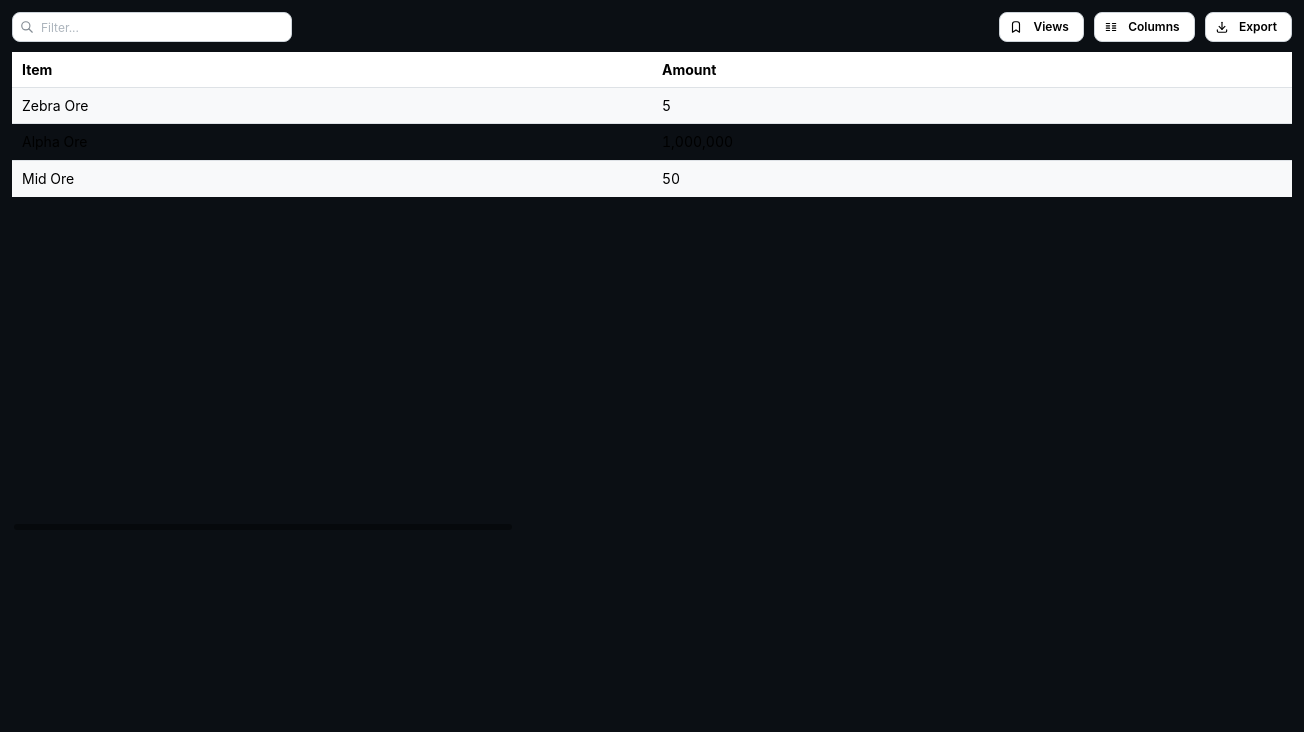
Test: DataTable › column pinning › moves a pinned column to the front of both the header and every row, without touching its visibility
The image size is (1304, 732).
Click the button "Columns" at (1144, 27), box [1094, 12, 1195, 42]
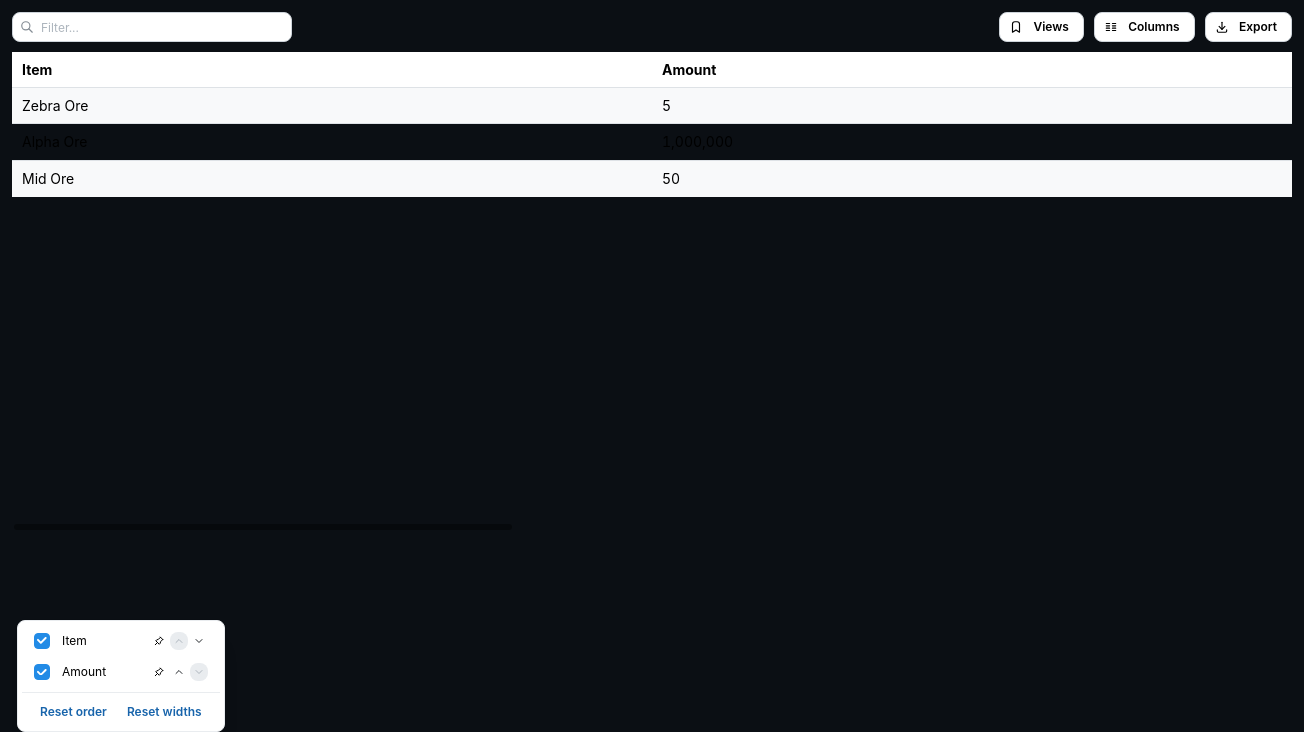
Click the button named "Pin Amount" at (159, 672), box [150, 663, 168, 681]
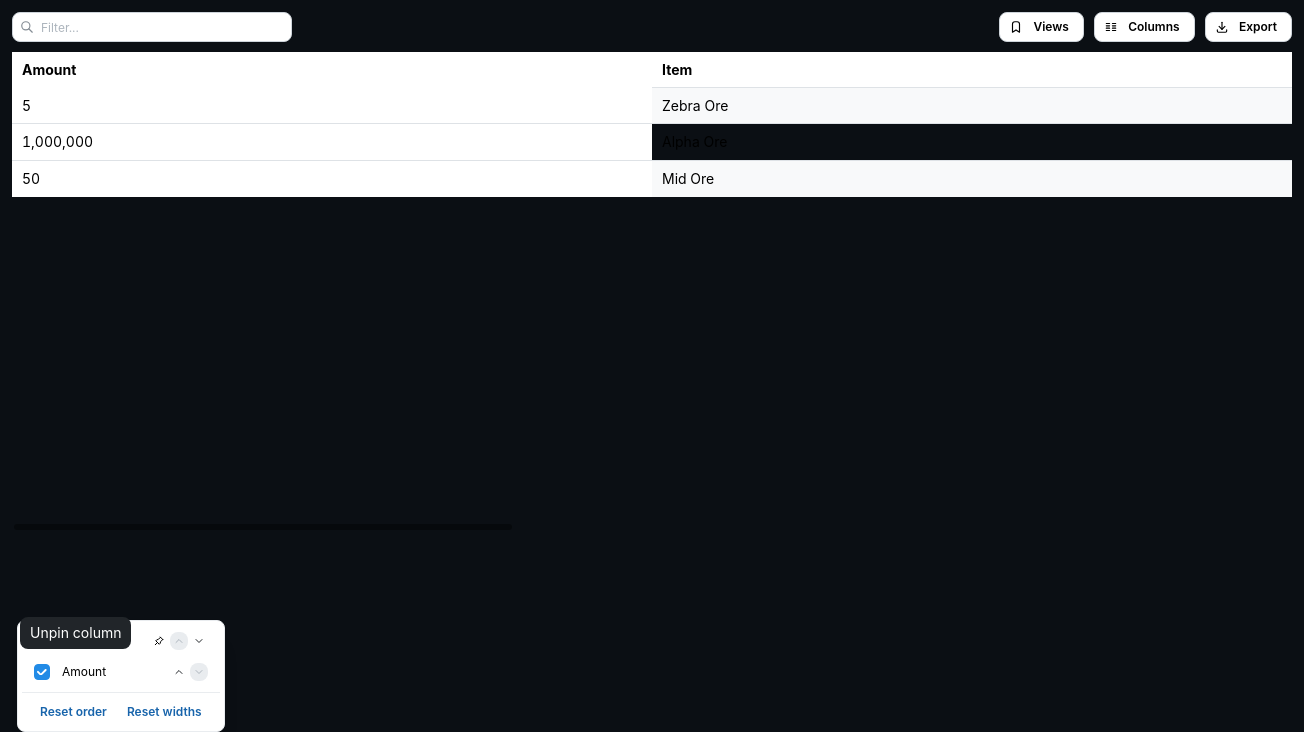
Now the buttons read "Amount", "Item", in this order, box [12, 52, 652, 88]; [652, 52, 1292, 88]
Now the cells read "5", "Zebra Ore", in this order, box [12, 88, 652, 124]; [652, 88, 1292, 124]
